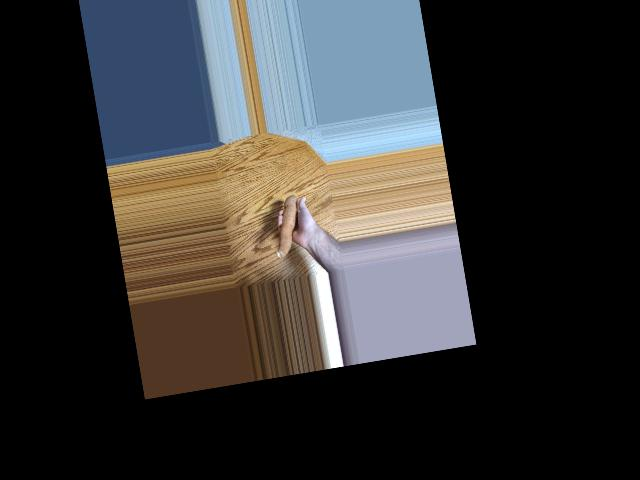sweet_potato: (268, 194, 307, 260)
